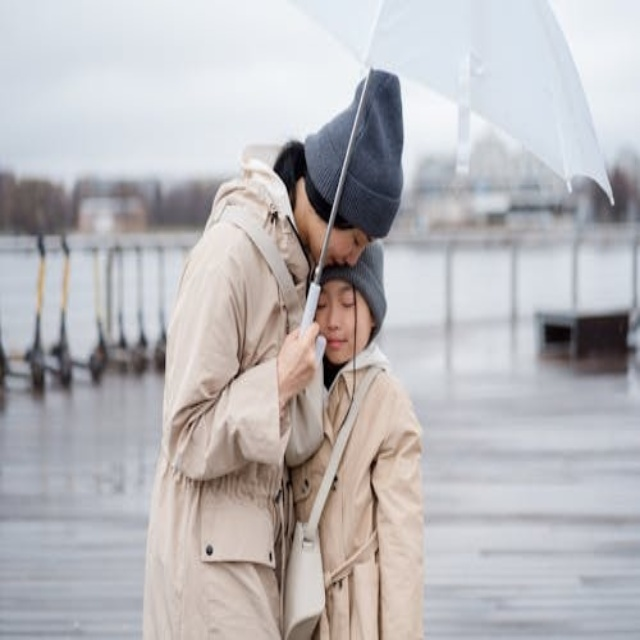Sin_gafas: (317, 283, 362, 319), (346, 225, 369, 267)
Sin_mascara: (328, 327, 355, 365), (321, 229, 340, 275)
